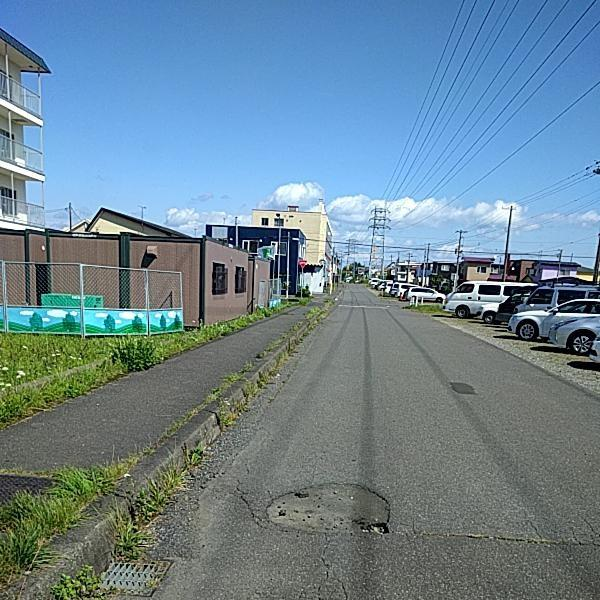pothole: (266, 481, 394, 538)
